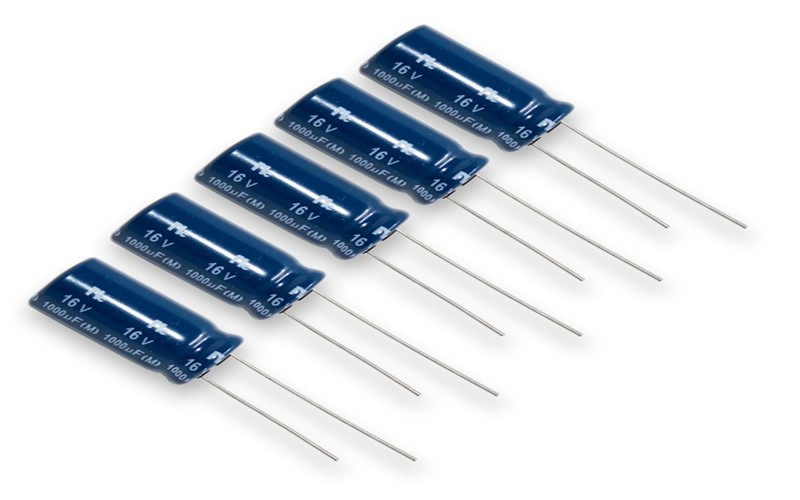Capacitor: (21, 15, 758, 471)
